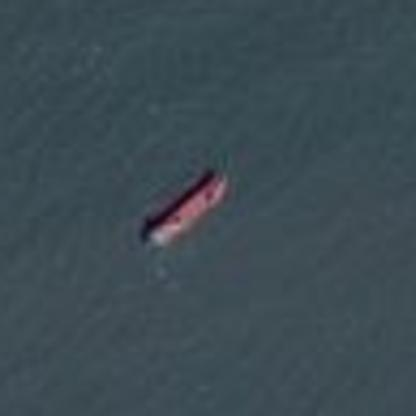ship: (136, 159, 236, 251)
